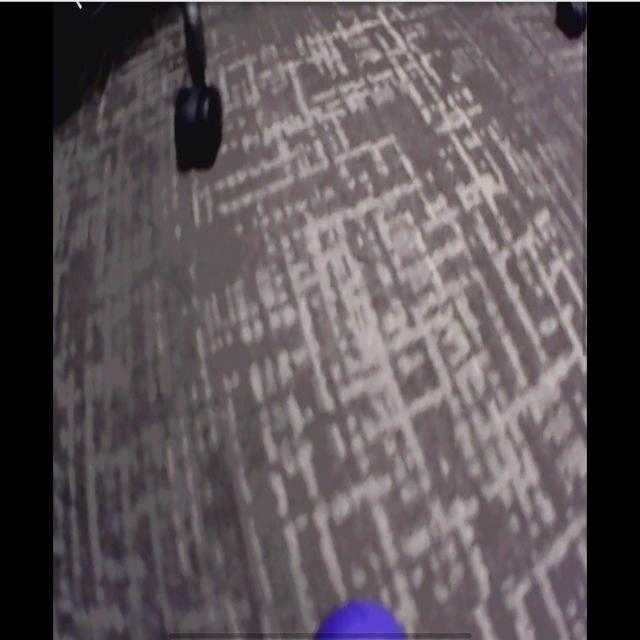ball: (318, 602, 416, 640)
